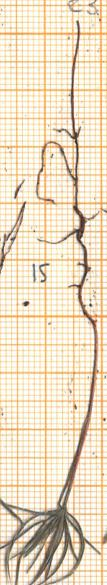flower: (0, 499, 107, 585)
root: (32, 15, 107, 286)
stem: (48, 286, 107, 501)
